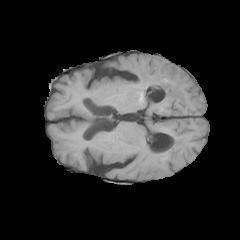glioma: (139, 62, 191, 161)
